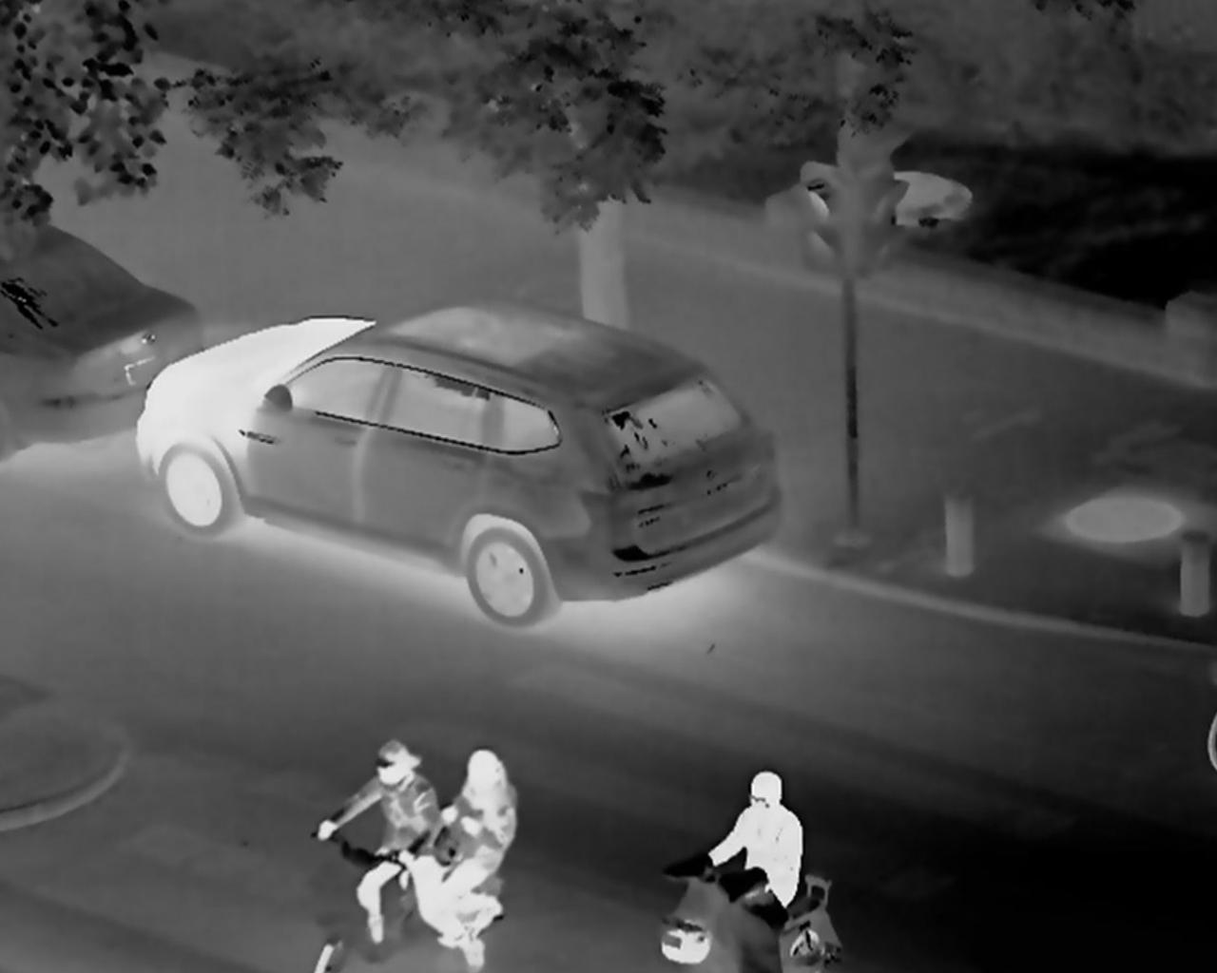person: (436, 751, 540, 973), (700, 766, 839, 923), (356, 719, 426, 968)
